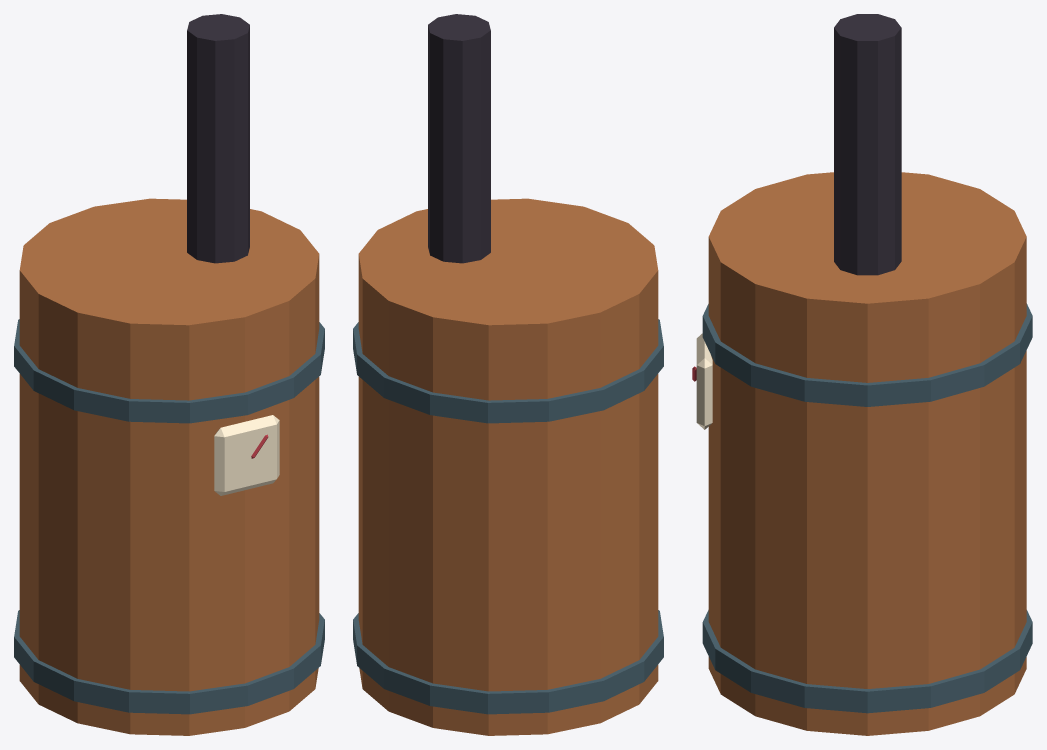
File: copper-boiler.glb
The picture shows the model from 3 angles, left to right: view 1: azimuth 30°, elevation 25°; view 2: azimuth 150°, elevation 25°; view 3: azimuth 270°, elevation 25°; orthographic projection. The views are drawn at different scales.
Visible parts, largest first — view 1: boiler, chimney.001, tank-band.001, tank-band, pressure-gauge; view 2: boiler, chimney.001, tank-band.001, tank-band; view 3: boiler, chimney.001, tank-band, tank-band.001, pressure-gauge.
Boxes of the visible parts, x1,y1,x2,y2 form: boiler: (19,198,319,735); chimney.001: (187,14,249,263); tank-band.001: (14,319,324,423); tank-band: (14,610,324,714); pressure-gauge: (214,415,279,495); boiler: (358,198,658,735); chimney.001: (428,14,490,263); tank-band.001: (353,319,663,423); tank-band: (353,610,663,714); boiler: (708,172,1026,735); chimney.001: (834,14,901,275); tank-band: (702,610,1032,713); tank-band.001: (702,303,1032,406); pressure-gauge: (696,333,712,429).
Bounding box in the file's own units: 1.66 × 3.7 × 1.71.
